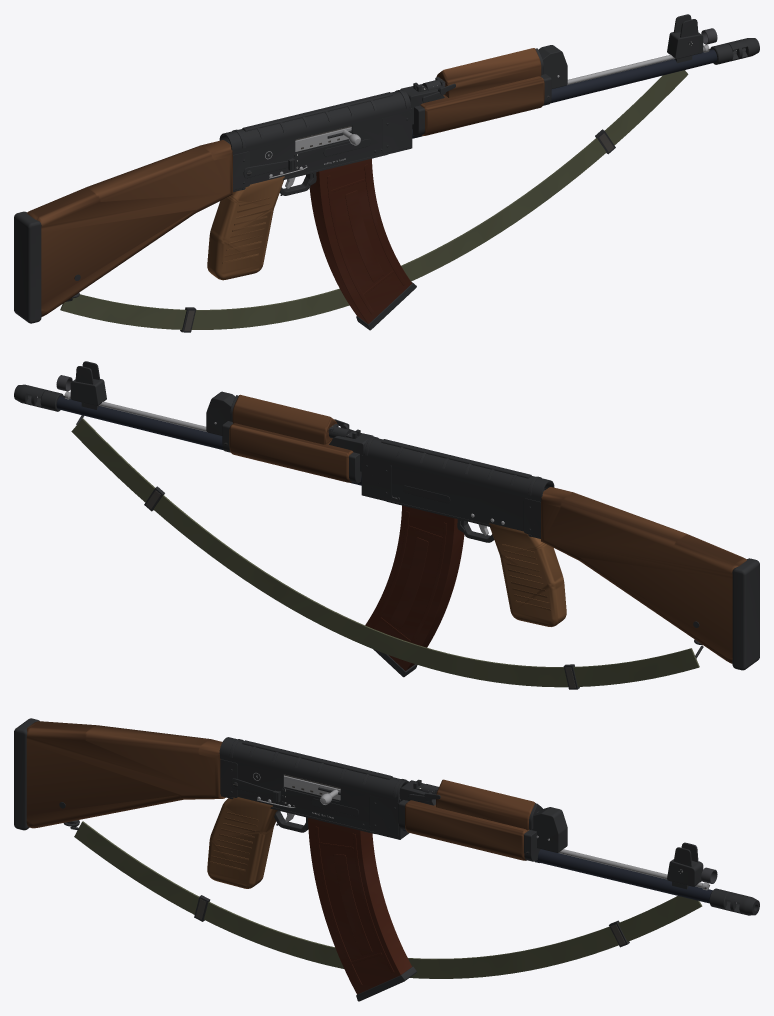
File: kartal.glb
The picture shows the model from 3 angles, top to bottom: view 1: azimuth 30°, elevation 25°; view 2: azimuth 150°, elevation 25°; view 3: azimuth 330°, elevation 25°; orthographic projection.
Visible parts, largest first — view 1: dipcik, kayis, sarjor, govde, el_kundagi, namlu, kabza, dipcik_metal, govde_detay, dipcik_kabza_detay, bilezik, gez; view 2: dipcik, kayis, govde, sarjor, el_kundagi, namlu, kabza, dipcik_metal, govde_detay, dipcik_kabza_detay, bilezik, gez; view 3: dipcik, kayis, sarjor, govde, el_kundagi, namlu, kabza, govde_detay, dipcik_metal, bilezik, dipcik_kabza_detay, gez.
Part boxes in pixels (x1,y1,x2,y2): dipcik: (27, 140, 232, 316); kayis: (60, 70, 688, 332); sarjor: (309, 158, 416, 330); govde: (219, 90, 412, 191); el_kundagi: (420, 48, 544, 135); namlu: (412, 14, 759, 138); kabza: (207, 176, 284, 280); dipcik_metal: (14, 211, 79, 323); govde_detay: (233, 100, 410, 190); dipcik_kabza_detay: (74, 197, 271, 280); bilezik: (412, 48, 551, 136); gez: (400, 77, 445, 124); dipcik: (541, 487, 746, 663); kayis: (71, 415, 703, 689); govde: (361, 436, 554, 538); sarjor: (365, 505, 464, 677); el_kundagi: (229, 394, 353, 482); namlu: (14, 361, 361, 485); kabza: (489, 523, 566, 626); dipcik_metal: (694, 558, 759, 670); govde_detay: (363, 447, 540, 537); dipcik_kabza_detay: (502, 544, 699, 627); bilezik: (222, 395, 361, 483); gez: (329, 424, 373, 471); dipcik: (26, 721, 225, 828); kayis: (70, 821, 702, 978); sarjor: (307, 817, 416, 1001); govde: (219, 737, 409, 839); el_kundagi: (405, 779, 535, 860); namlu: (402, 784, 759, 915); kabza: (207, 797, 277, 888); govde_detay: (220, 746, 398, 837); dipcik_metal: (14, 718, 79, 830); bilezik: (398, 792, 542, 862); dipcik_kabza_detay: (59, 802, 258, 871); gez: (399, 779, 438, 805).
Size of the model in its own units: 0.973 by 0.2998 by 0.065.
